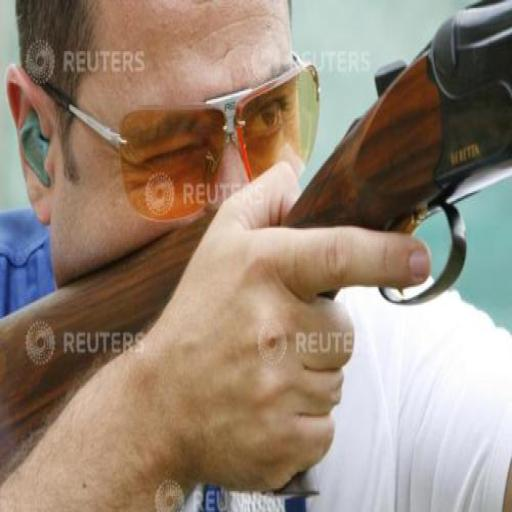shooting: (0, 0, 511, 510)
